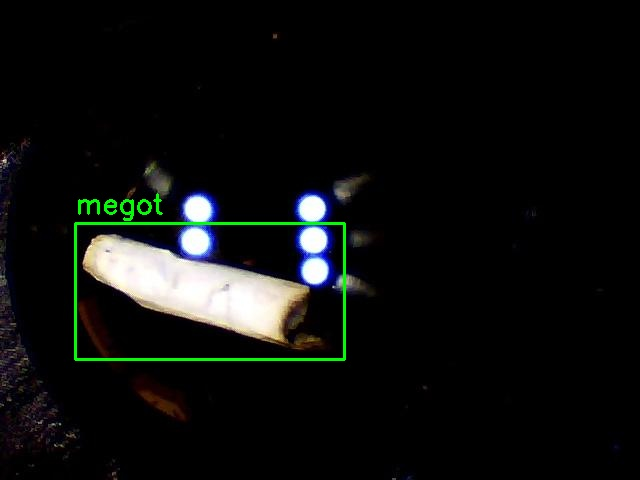megot: (75, 223, 344, 359)
